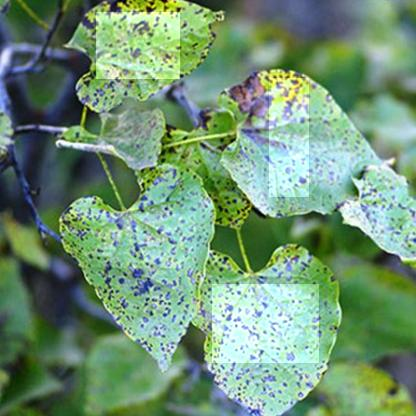black-spot: (212, 284, 319, 363), (79, 214, 196, 268), (96, 12, 180, 79), (269, 78, 309, 197)
